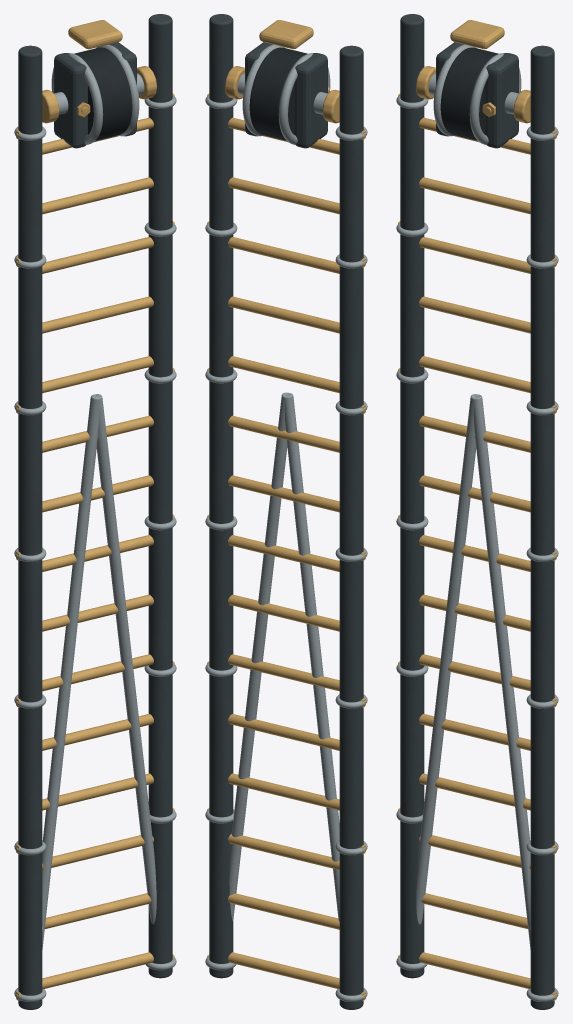
Rendered from LauncherDetails.glb.
3 views of the same model, side by side, from view 1: azimuth 30°, elevation 25°; view 2: azimuth 150°, elevation 25°; view 3: azimuth 330°, elevation 25° (orthographic).
Parts seen in each view (by area): view 1: LauncherDetails_Forged_charcoal_iron, LauncherDetails_Aged_machined_brass, LauncherDetails_Machined_satin_steel, LauncherDetails_Blackened_steel; view 2: LauncherDetails_Forged_charcoal_iron, LauncherDetails_Aged_machined_brass, LauncherDetails_Machined_satin_steel, LauncherDetails_Blackened_steel; view 3: LauncherDetails_Forged_charcoal_iron, LauncherDetails_Aged_machined_brass, LauncherDetails_Machined_satin_steel, LauncherDetails_Blackened_steel.
Boxes of the visible parts, x1=… form: LauncherDetails_Forged_charcoal_iron: x1=18, y1=14, x2=172, y2=1009; LauncherDetails_Aged_machined_brass: x1=15, y1=20, x2=174, y2=1001; LauncherDetails_Machined_satin_steel: x1=14, y1=44, x2=176, y2=1001; LauncherDetails_Blackened_steel: x1=74, y1=47, x2=132, y2=140; LauncherDetails_Forged_charcoal_iron: x1=209, y1=14, x2=363, y2=1009; LauncherDetails_Aged_machined_brass: x1=207, y1=20, x2=366, y2=1001; LauncherDetails_Machined_satin_steel: x1=205, y1=44, x2=367, y2=1001; LauncherDetails_Blackened_steel: x1=249, y1=47, x2=307, y2=140; LauncherDetails_Forged_charcoal_iron: x1=400, y1=14, x2=554, y2=1009; LauncherDetails_Aged_machined_brass: x1=398, y1=20, x2=557, y2=1001; LauncherDetails_Machined_satin_steel: x1=396, y1=44, x2=558, y2=1001; LauncherDetails_Blackened_steel: x1=440, y1=47, x2=498, y2=140.
Bounding box in the file's own units: 1.75 × 10.15 × 0.9.
4 materials, 4 textured.
